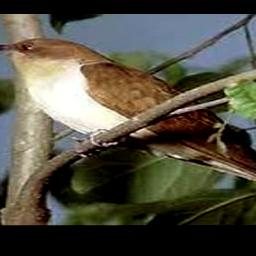Cuckoo: (0, 38, 256, 211)
